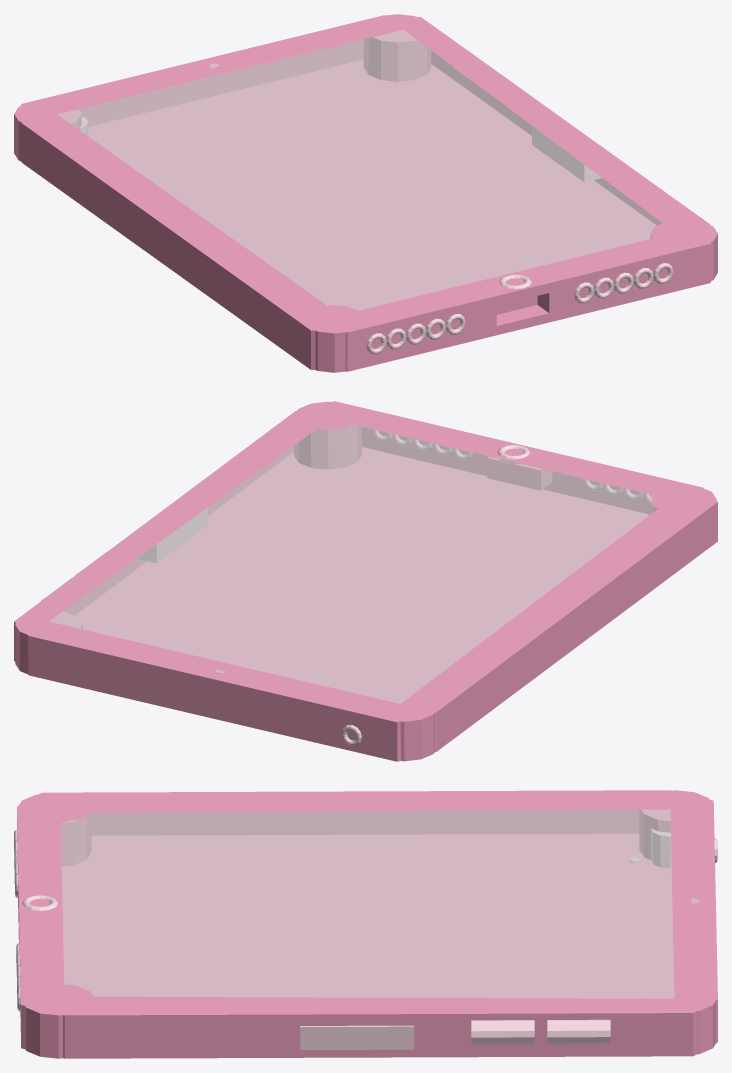
File: Tablet.fbx
The picture shows the model from 3 angles, top to bottom: view 1: azimuth 30°, elevation 25°; view 2: azimuth 150°, elevation 25°; view 3: azimuth 270°, elevation 25°; orthographic projection. The views are drawn at different scales.
Parts seen in each view (by area): view 1: Tablet; view 2: Tablet; view 3: Tablet.
Part boxes in pixels (x1,y1,x2,y2): Tablet: [14, 14, 717, 372]; Tablet: [14, 401, 717, 761]; Tablet: [14, 790, 717, 1058].
Bounding box in the file's own units: 1440 × 147 × 1877.
